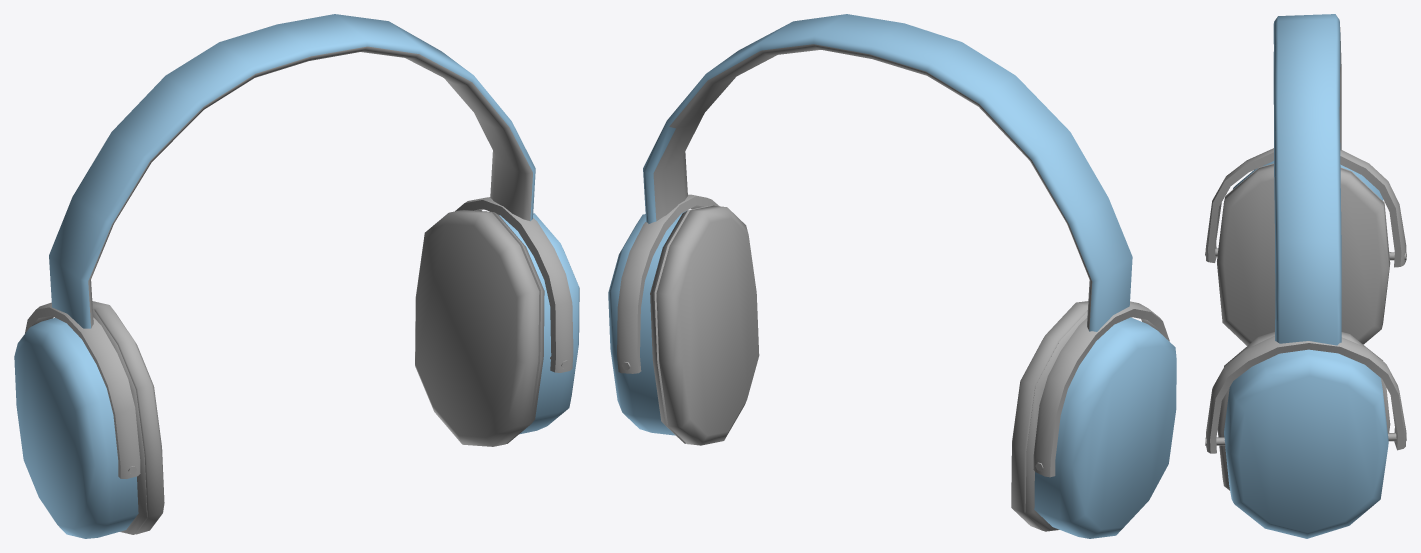
Rendered from HeadPhones.fbx.
3 views of the same model, side by side, from view 1: azimuth 30°, elevation 25°; view 2: azimuth 150°, elevation 25°; view 3: azimuth 270°, elevation 25° (orthographic). The views are drawn at different scales.
Parts seen in each view (by area): view 1: Objects_Headphones.004; view 2: Objects_Headphones.004; view 3: Objects_Headphones.004.
Boxes of the visible parts, left/top/right/bottom form: Objects_Headphones.004: left=14, top=14, right=579, bottom=538; Objects_Headphones.004: left=608, top=14, right=1176, bottom=538; Objects_Headphones.004: left=1205, top=14, right=1406, bottom=538.
Bounding box in the file's own units: 0.284 × 0.2412 × 0.1095.
